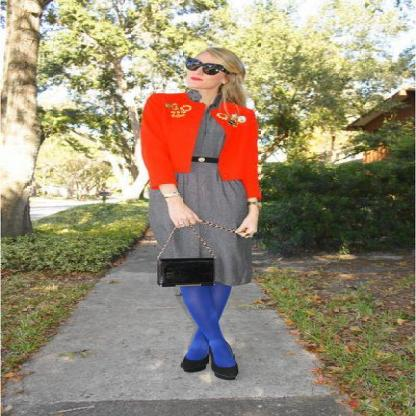bag: (157, 256, 214, 286)
dress: (139, 94, 261, 286)
jacket: (140, 93, 268, 199)
shoe: (187, 349, 237, 380)
sunglass: (185, 56, 230, 74)
